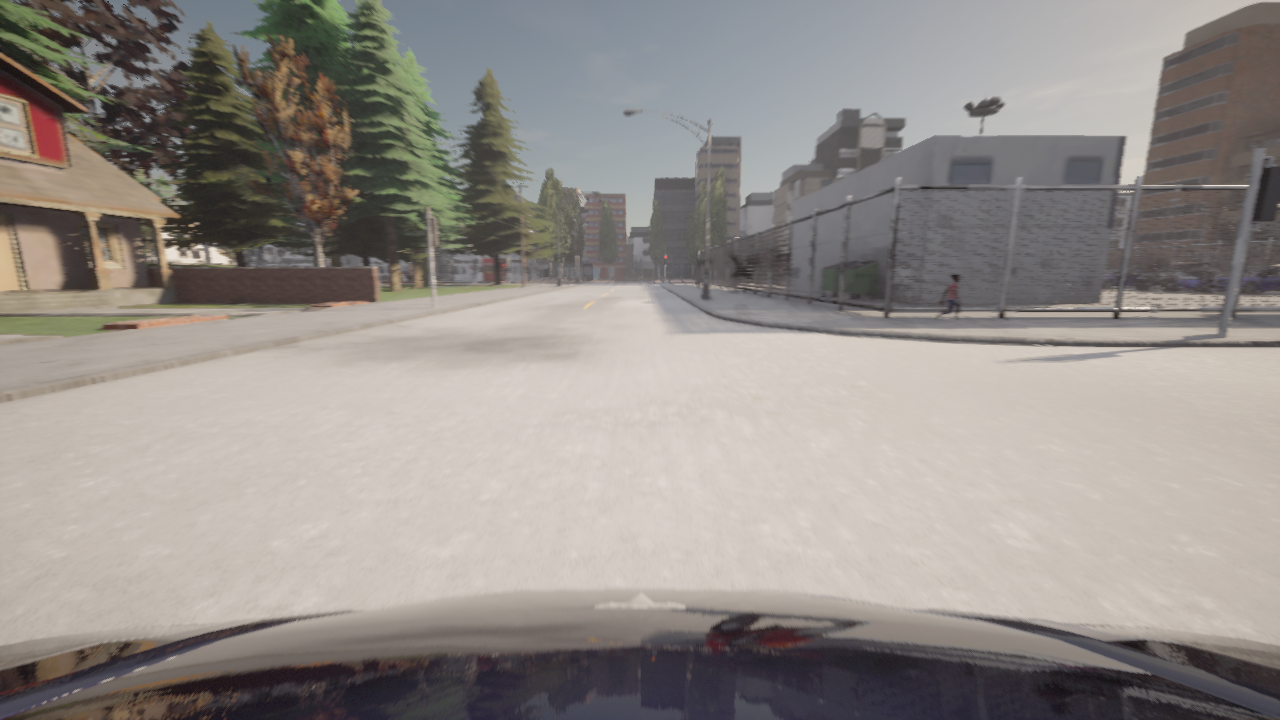cyclist: (0, 588, 1279, 719), (1198, 264, 1279, 294), (1134, 262, 1212, 291), (1171, 269, 1223, 292), (1102, 269, 1143, 288)
pedestrian: (933, 274, 962, 321)
